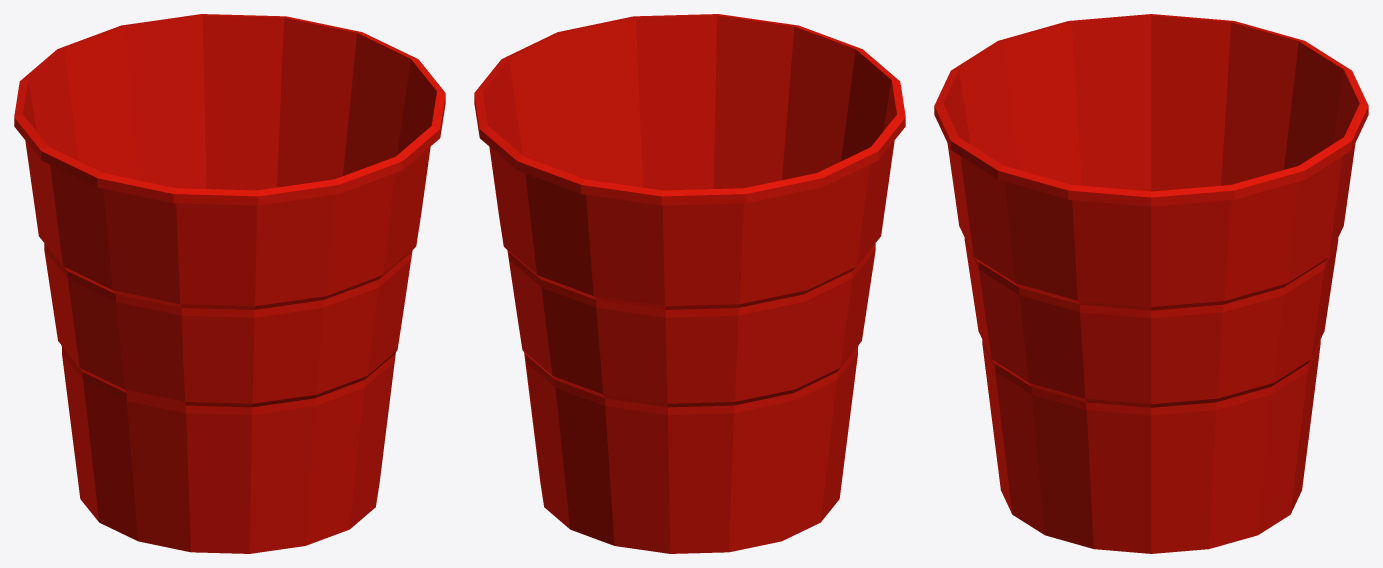
The model's file is SoloCup.fbx.
3 views of the same model, side by side, from view 1: azimuth 30°, elevation 25°; view 2: azimuth 150°, elevation 25°; view 3: azimuth 270°, elevation 25° (orthographic).
Parts seen in each view (by area): view 1: Cylinder; view 2: Cylinder; view 3: Cylinder.
Part boxes in pixels (<box>): Cylinder: <box>14,14,445,553</box>; Cylinder: <box>474,14,905,553</box>; Cylinder: <box>934,14,1368,553</box>.
Bounding box in the file's own units: 208 × 205 × 208.
